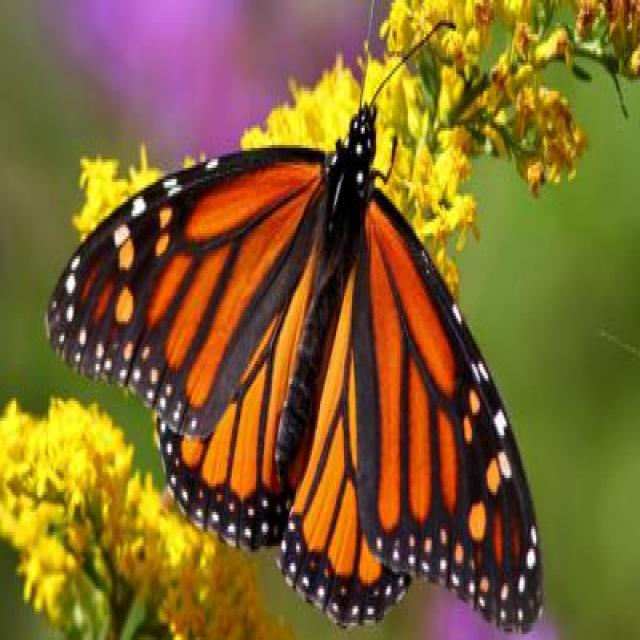antennae: (360, 1, 459, 124)
body: (278, 103, 372, 473)
insect: (44, 1, 545, 633)
legs: (374, 122, 405, 194)
wings: (278, 195, 546, 629), (44, 139, 328, 548)
